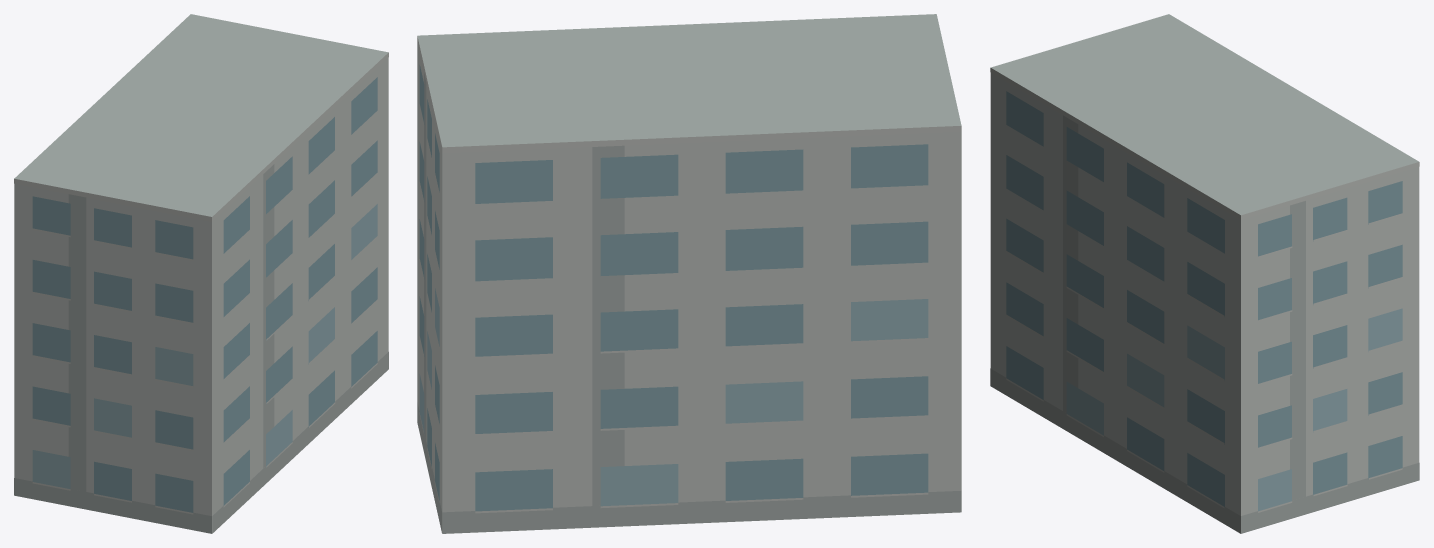
Rendered from survey-upis-32828976.glb.
The picture shows the model from 3 angles, left to right: view 1: azimuth 30°, elevation 25°; view 2: azimuth 150°, elevation 25°; view 3: azimuth 270°, elevation 25°; orthographic projection. The views are drawn at different scales.
Parts seen in each view (by area): view 1: survey-upis-32828976.tmp; view 2: survey-upis-32828976.tmp; view 3: survey-upis-32828976.tmp.
Part boxes in pixels (box(x1,y1,x2,y2)): survey-upis-32828976.tmp: box(14, 14, 388, 533); survey-upis-32828976.tmp: box(417, 14, 961, 533); survey-upis-32828976.tmp: box(990, 14, 1419, 533).
Bounding box in the file's own units: 21.49 × 15.85 × 19.35.
